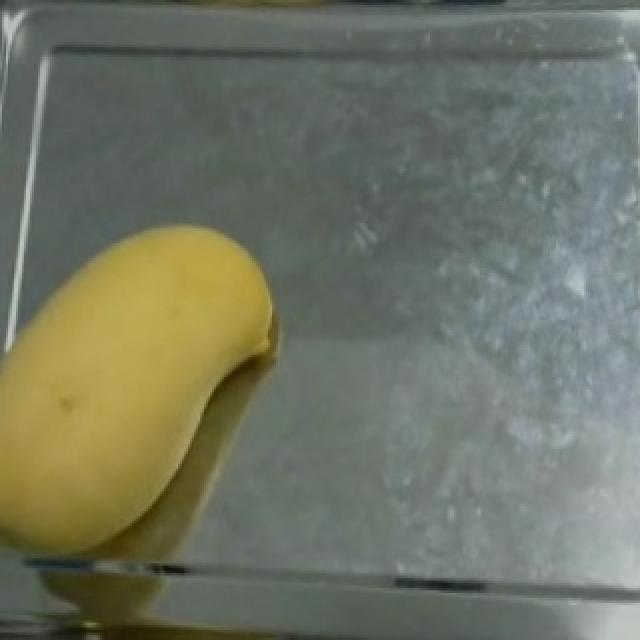fruit: (2, 204, 294, 570)
